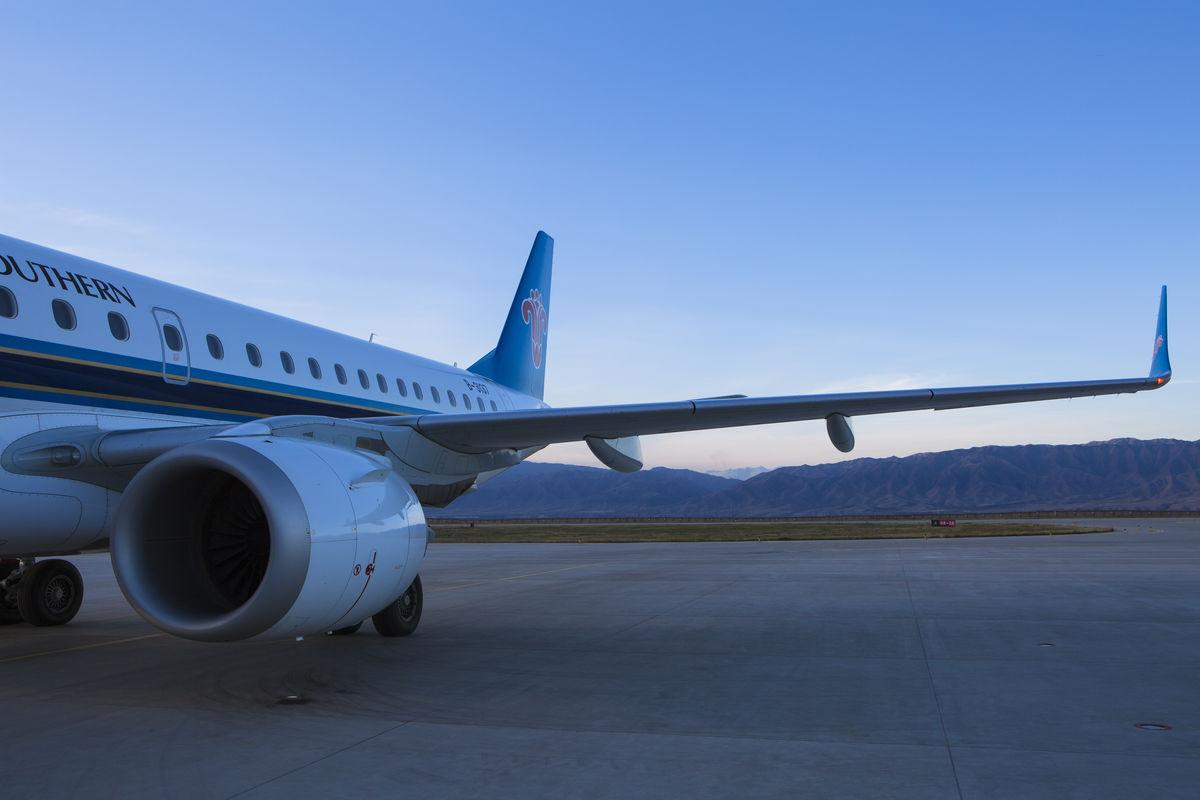airplane: (4, 229, 1191, 640)
